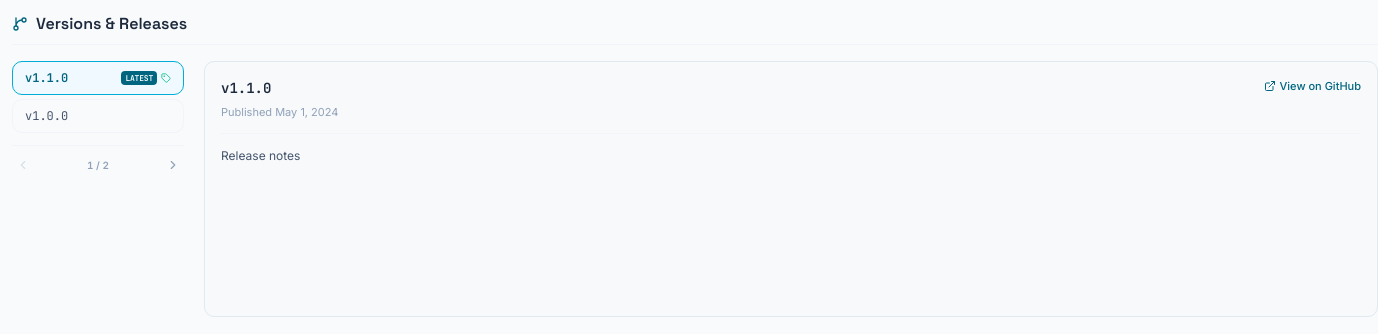
Test case: VersionsReleasesTab › fetches the next page of versions when paginating
Expected: the text "v1.0.0" is shown, [25,108,68,124]
Click the 4th button: (173, 165) [162,154,184,176]
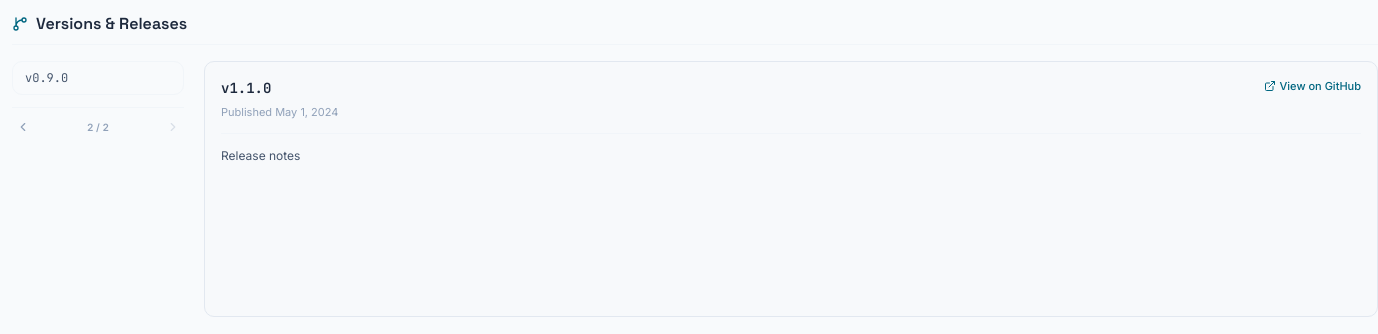
Expected: the text "v0.9.0" is shown, [25,70,68,86]
